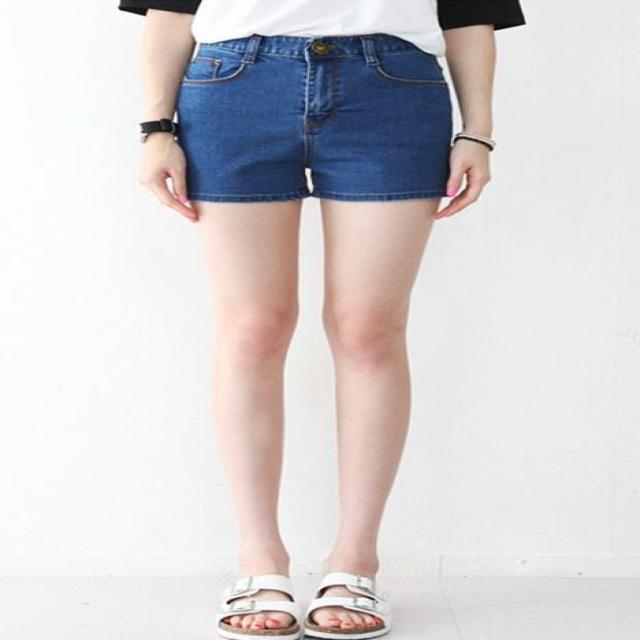short sleeve top: (198, 2, 528, 56)
shorts: (179, 31, 453, 196)
